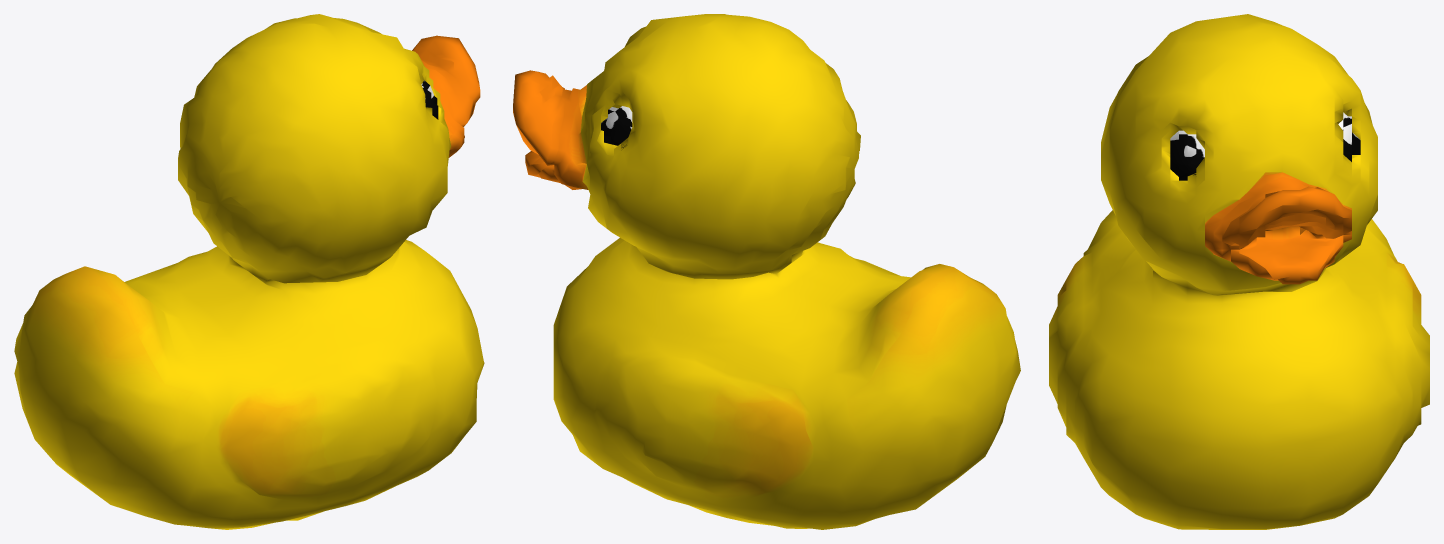
The model's file is Duck-vp-6-vt-6-vn-6.glb.
3 renders of one model, left to right at view 1: azimuth 30°, elevation 25°; view 2: azimuth 150°, elevation 25°; view 3: azimuth 270°, elevation 25°, orthographic. The views are drawn at different scales.
Bounding box in the file's own units: 1.65 × 1.55 × 1.16.
Materials: 1 (1 with a texture image).
